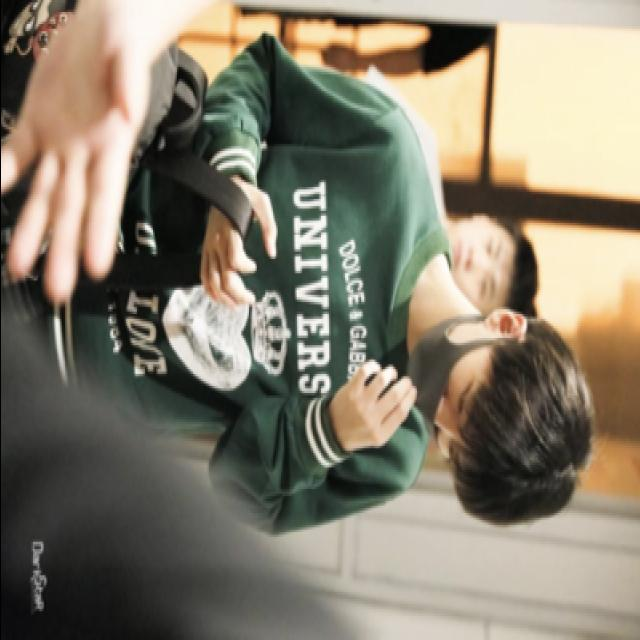mask: (406, 330, 492, 472)
no_mask: (442, 218, 504, 314)
